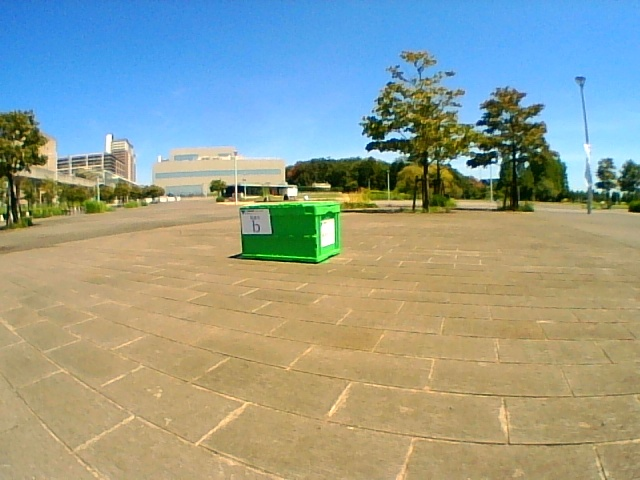green_box: (240, 202, 340, 261)
tag_b: (242, 208, 270, 234)
